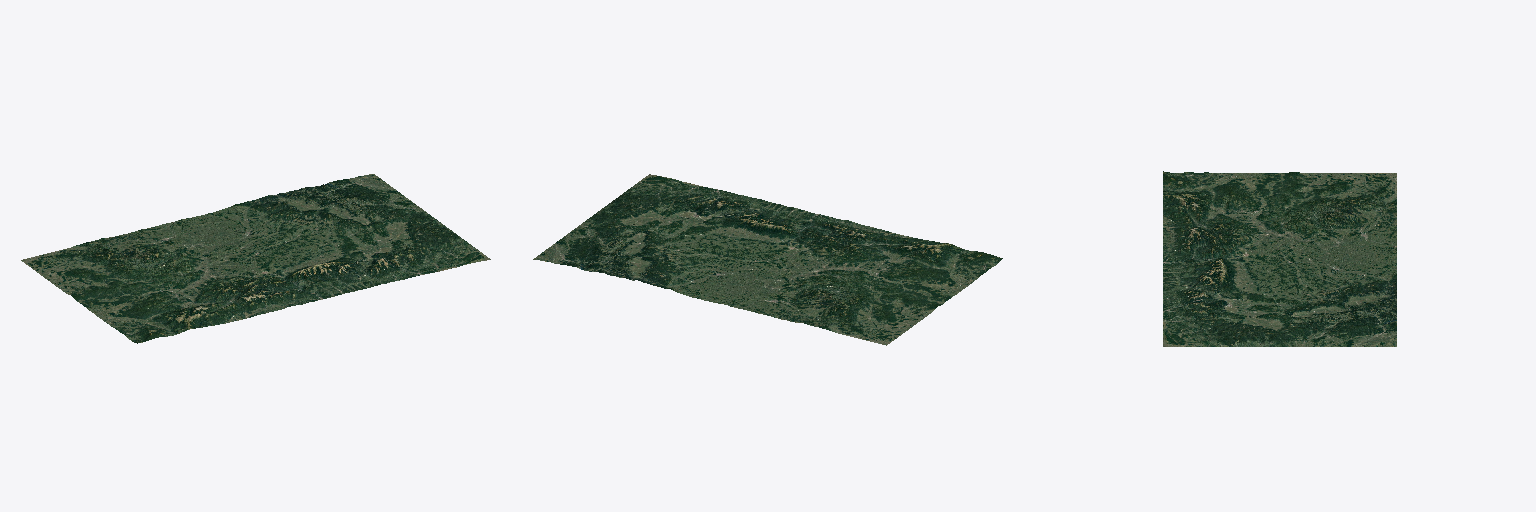
3 views of the same model, side by side, from view 1: azimuth 30°, elevation 25°; view 2: azimuth 150°, elevation 25°; view 3: azimuth 270°, elevation 25° (orthographic).
Visible parts, largest first — view 1: EXPORT_GOOGLE_SAT_WM; view 2: EXPORT_GOOGLE_SAT_WM; view 3: EXPORT_GOOGLE_SAT_WM.
Boxes of the visible parts, box(x1,y1,x2,y2) form: EXPORT_GOOGLE_SAT_WM: box(21, 174, 490, 343); EXPORT_GOOGLE_SAT_WM: box(533, 174, 1002, 345); EXPORT_GOOGLE_SAT_WM: box(1163, 171, 1396, 346).
Bounding box in the file's own units: 547901 × 12300 × 313086.
1 materials, 1 textured.